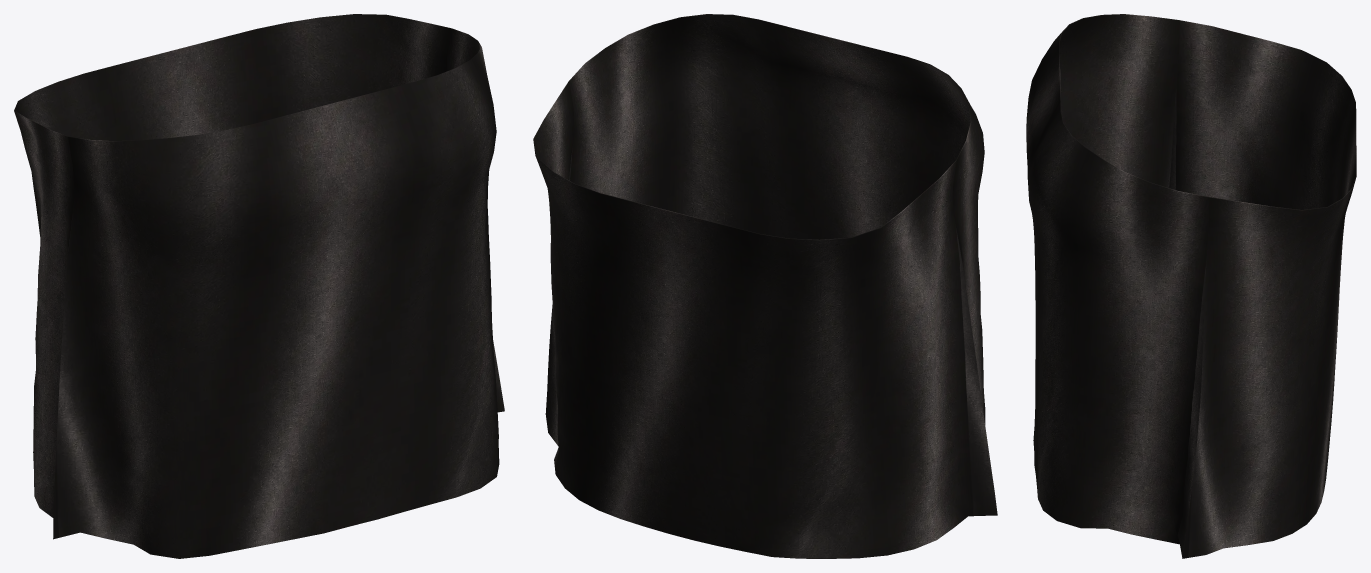
File: suelto_regular.glb
3 renders of one model, left to right at view 1: azimuth 30°, elevation 25°; view 2: azimuth 150°, elevation 25°; view 3: azimuth 270°, elevation 25°, orthographic. The views are drawn at different scales.
Parts seen in each view (by area): view 1: Cloth; view 2: Cloth; view 3: Cloth.
Part boxes in pixels (<box>): Cloth: <box>14,14,504,558</box>; Cloth: <box>533,14,997,558</box>; Cloth: <box>1026,14,1356,558</box>.
Size of the model in its own units: 0.3402 by 0.3004 by 0.2302.
1 material, 1 textured.
